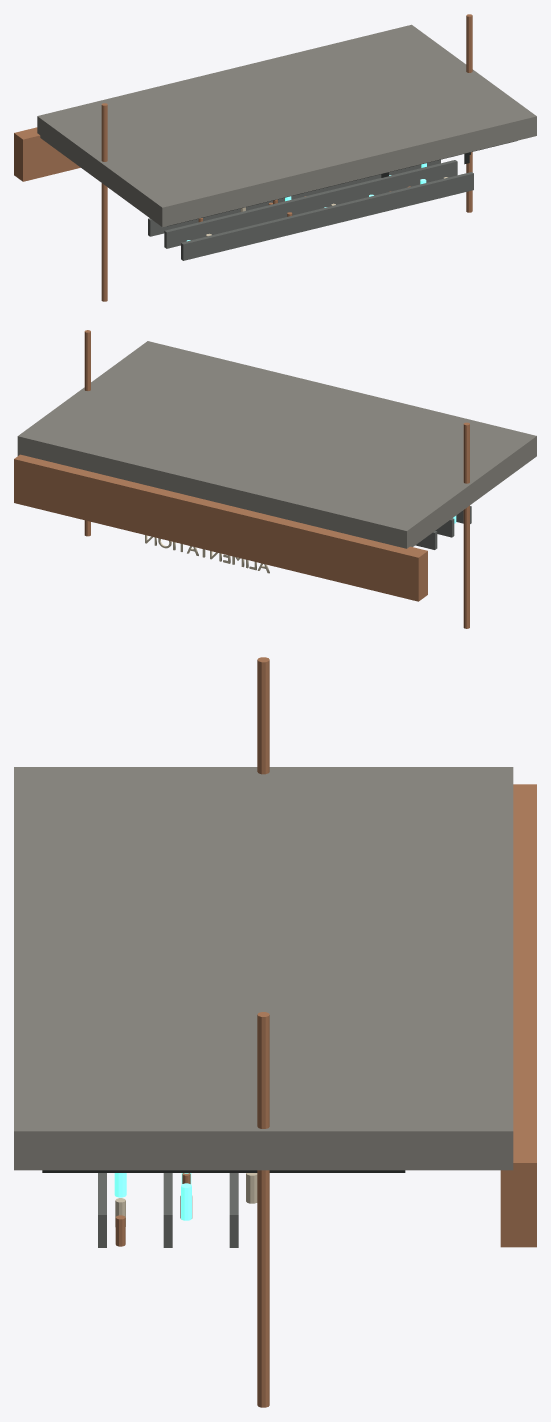
The model's file is dz_real_shopfront_loaded_ruined.glb.
The picture shows the model from 3 angles, top to bottom: view 1: azimuth 30°, elevation 25°; view 2: azimuth 150°, elevation 25°; view 3: azimuth 270°, elevation 25°; orthographic projection. The views are drawn at different scales.
Visible parts, largest first — view 1: superette facade cracked concrete, loaded shelf plank, loaded shelf plank.001, collapsed awning, loaded shelf plank.002, bent drain pipe, bent drain pipe.001; view 2: superette facade cracked concrete, collapsed awning, bent drain pipe, faded market sign, bent drain pipe.001; view 3: superette facade cracked concrete, collapsed awning, bent drain pipe.001, bent drain pipe, dark shop interior.
Boxes of the visible parts, x1,y1,x2,y2 form: superette facade cracked concrete: (37, 24, 536, 227); loaded shelf plank: (181, 172, 473, 260); loaded shelf plank.001: (164, 160, 457, 248); collapsed awning: (14, 127, 80, 181); loaded shelf plank.002: (148, 159, 440, 236); bent drain pipe: (101, 103, 107, 301); bent drain pipe.001: (466, 14, 472, 212); superette facade cracked concrete: (17, 341, 536, 548); collapsed awning: (14, 454, 427, 601); bent drain pipe: (463, 422, 469, 628); faded market sign: (145, 535, 269, 573); bent drain pipe.001: (84, 330, 90, 536); superette facade cracked concrete: (14, 767, 513, 1170); collapsed awning: (500, 784, 536, 1247); bent drain pipe.001: (257, 1012, 269, 1407); bent drain pipe: (257, 657, 269, 774); dark shop interior: (42, 1170, 405, 1172).
Size of the model in its own units: 7.95 by 3.8 by 4.61.
